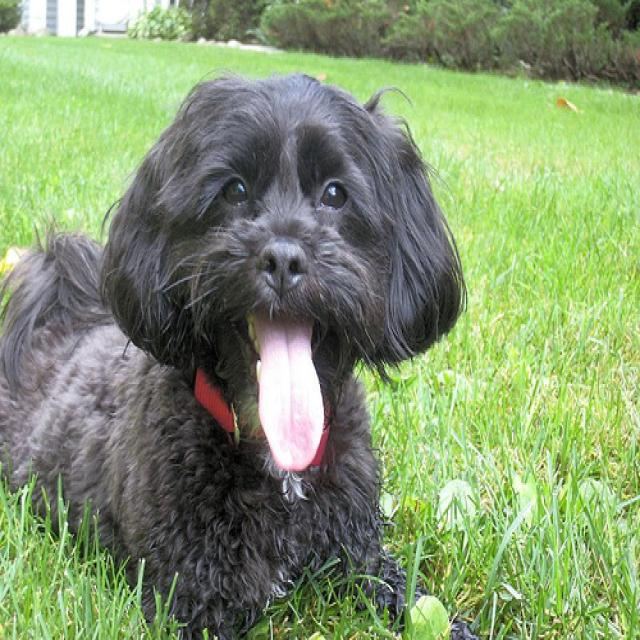dog-havanese: (1, 65, 467, 637)
